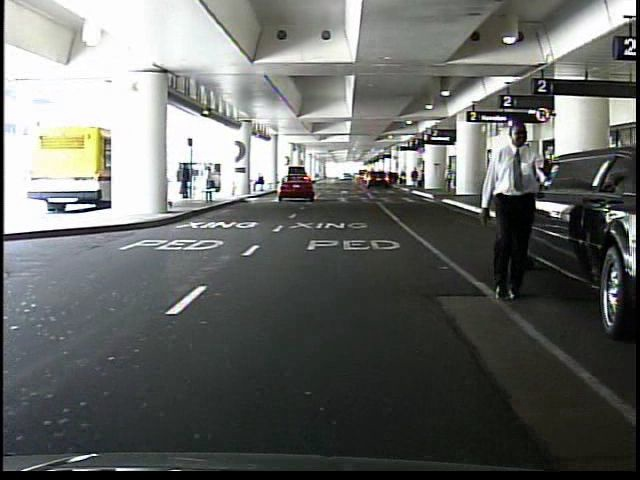person: (471, 117, 551, 301), (178, 160, 193, 200), (442, 166, 455, 193), (253, 171, 266, 194), (410, 167, 420, 190)
